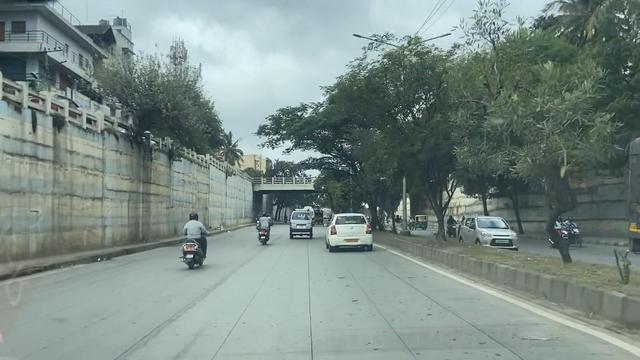LMV: (166, 202, 212, 269), (323, 211, 375, 252)
